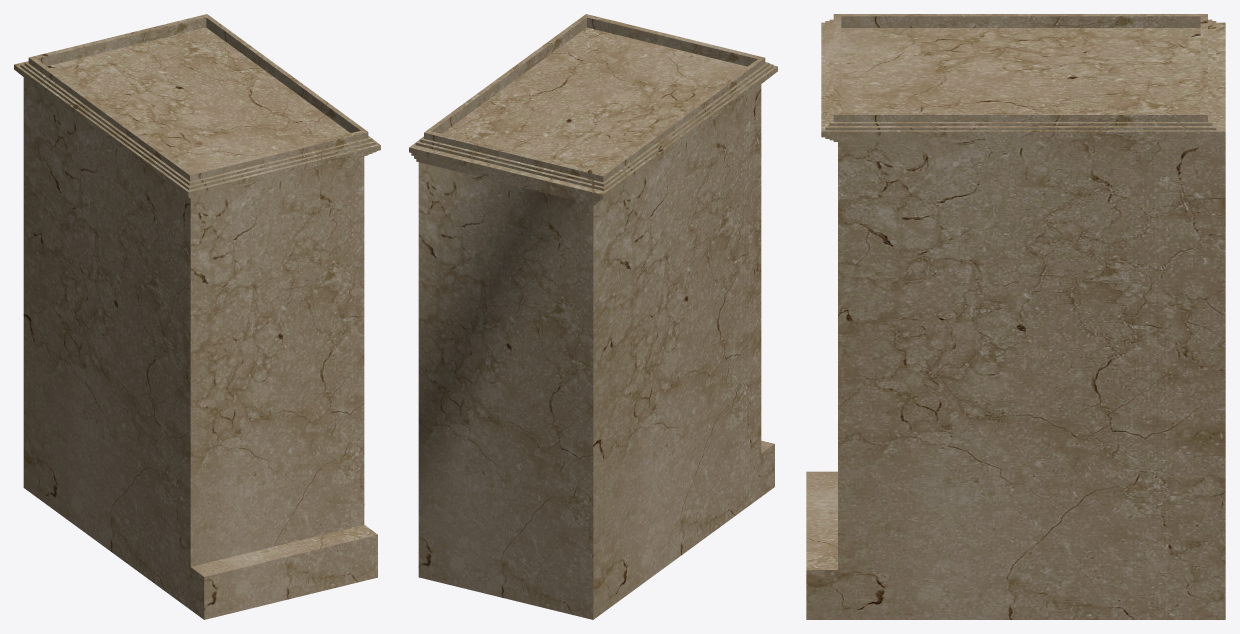
Rendered from stone_column_832.fbx.
3 views of the same model, side by side, from view 1: azimuth 30°, elevation 25°; view 2: azimuth 150°, elevation 25°; view 3: azimuth 270°, elevation 25° (orthographic). The views are drawn at different scales.
Visible parts, largest first — view 1: stone_column_832; view 2: stone_column_832; view 3: stone_column_832.
Part boxes in pixels (bbox=[...]): stone_column_832: bbox=[14, 14, 380, 619]; stone_column_832: bbox=[409, 14, 777, 619]; stone_column_832: bbox=[806, 14, 1225, 619].
Bounding box in the file's own units: 163 × 354 × 266.
